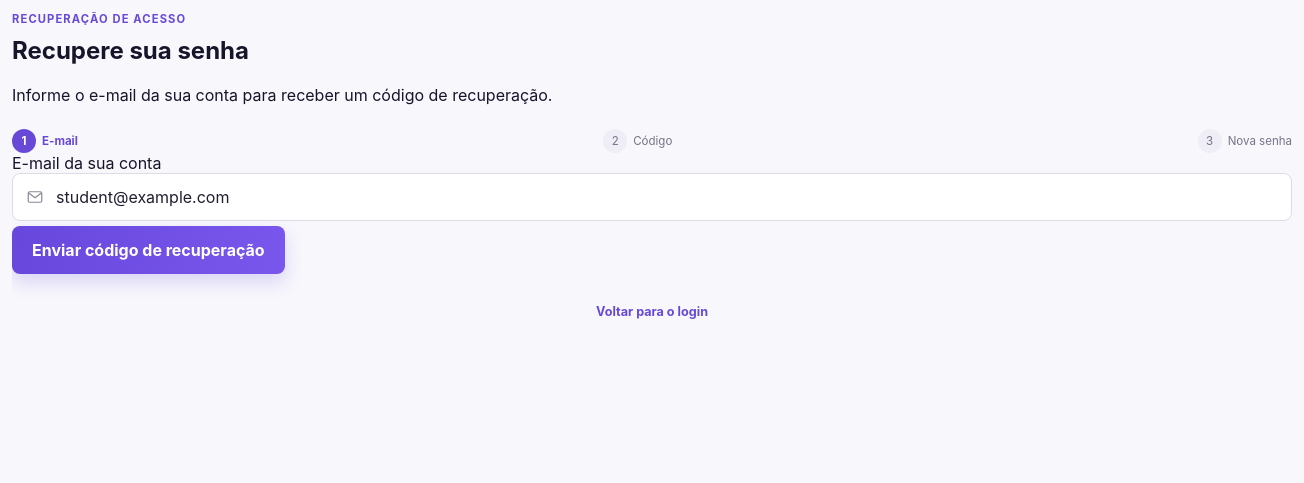
it: recuperação de senha › impede envio de senhas diferentes e exibe mensagem acessível
Submit the form, box [12,153,1292,274]
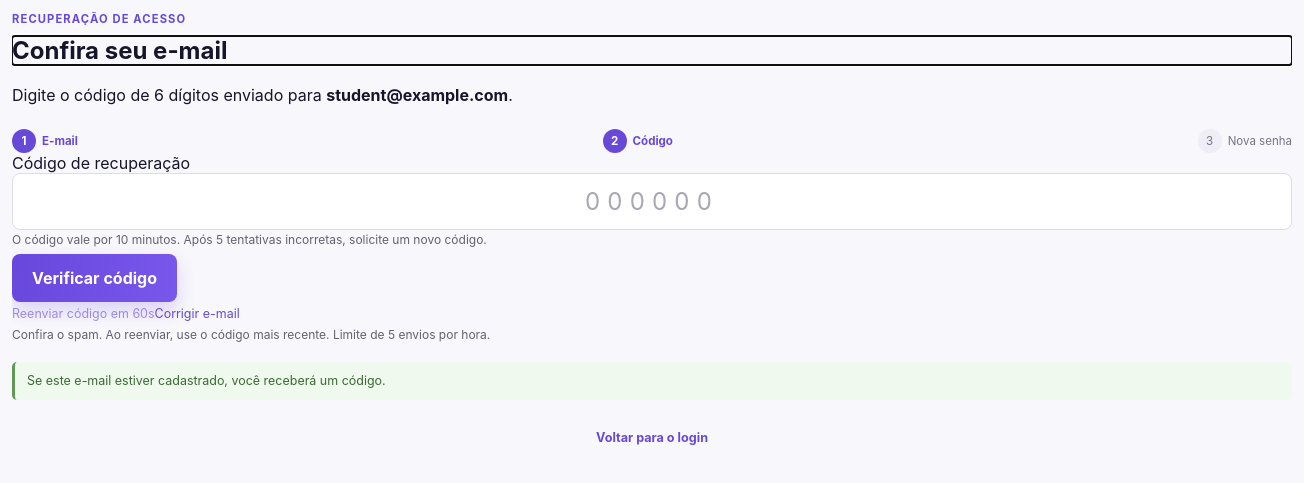
Type "001234" into the field labelled "Código de recuperação".
click(652, 201); type("001234")  # box [12,173,1292,230]
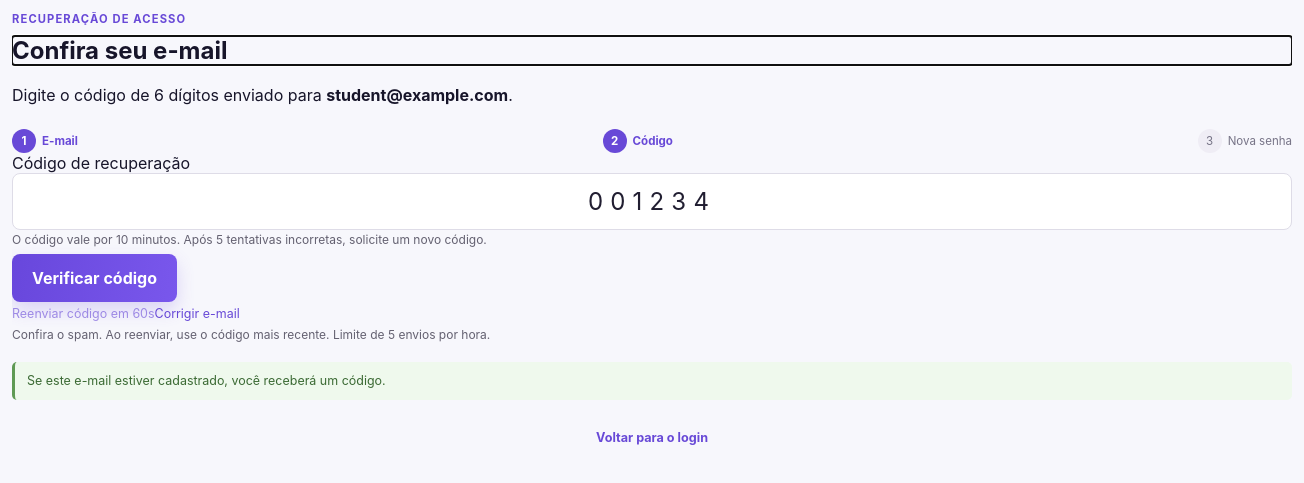
Submit the form, box [12,153,1292,344]
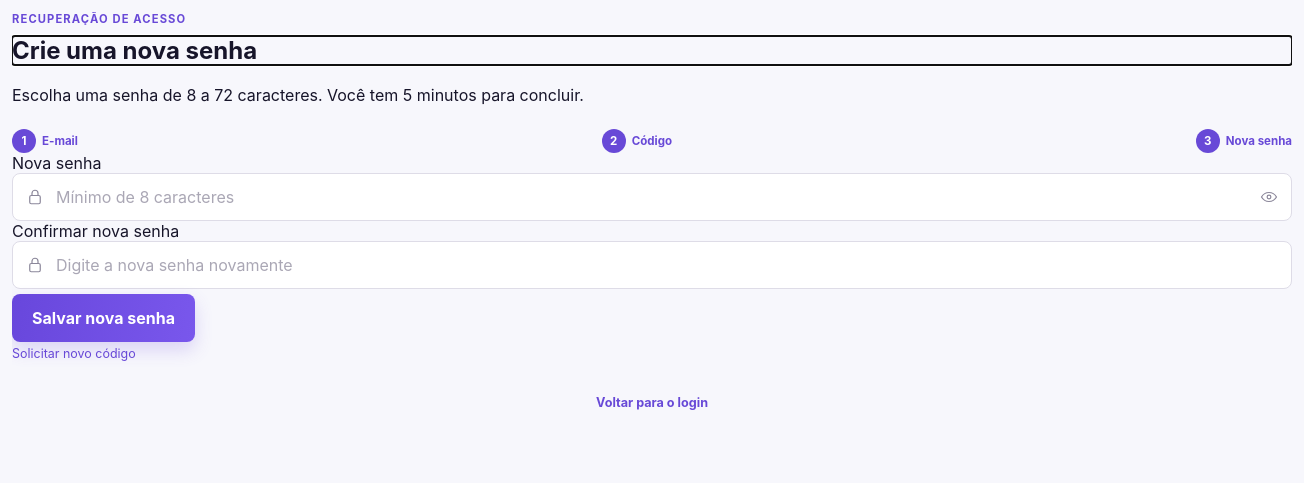
Type "senha-nova-123" into the password field labelled "Nova senha".
click(652, 197); type("senha-nova-123")  # box [12,173,1292,221]
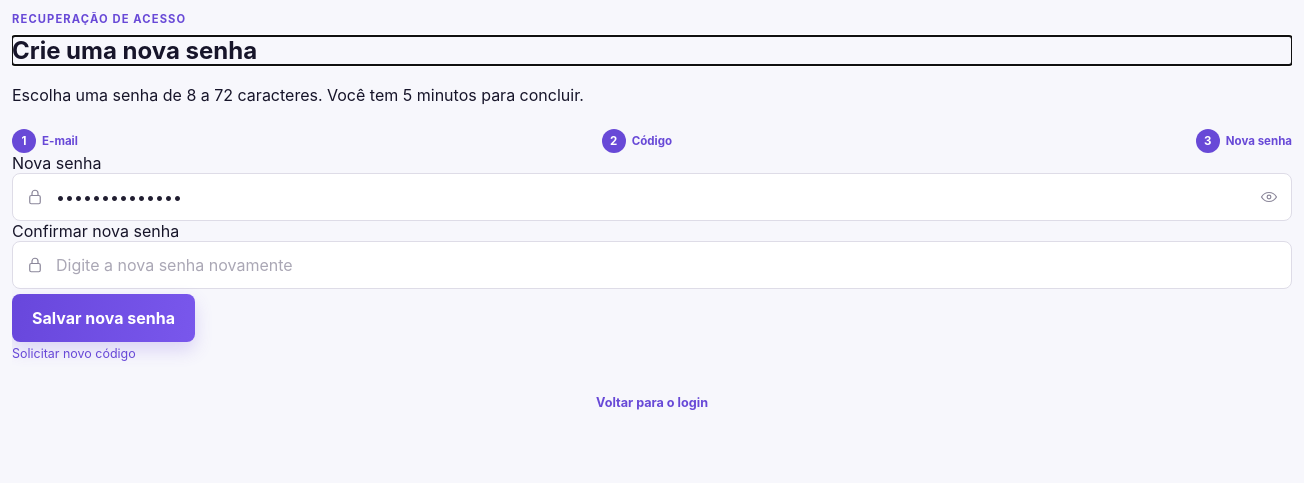
Type "senha-diferente-123" into the password field labelled "Confirmar nova senha".
click(652, 265); type("senha-diferente-123")  # box [12,241,1292,289]
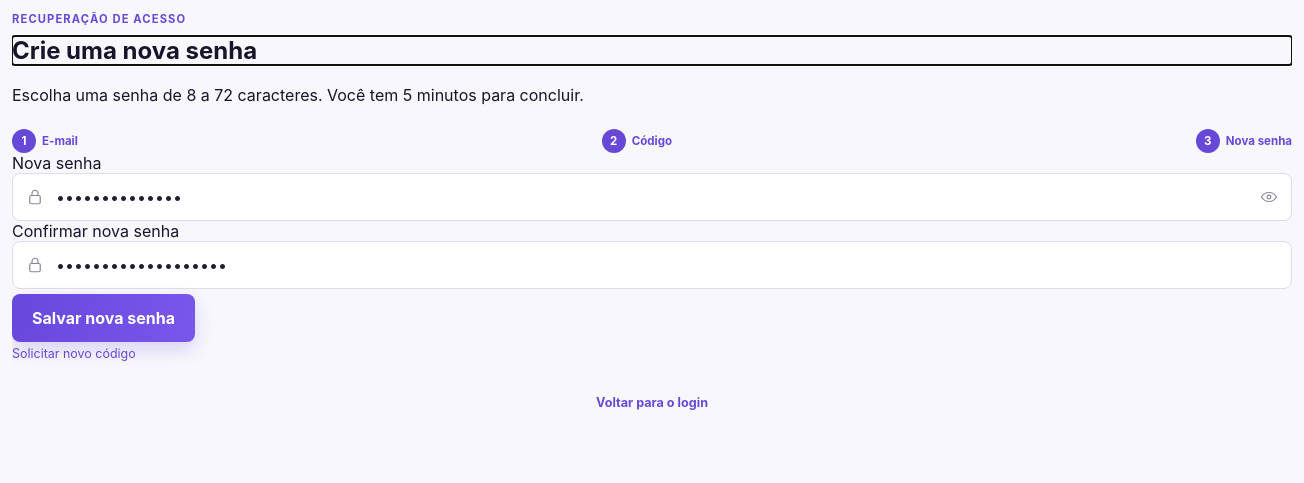
Submit the form, box [12,153,1292,365]
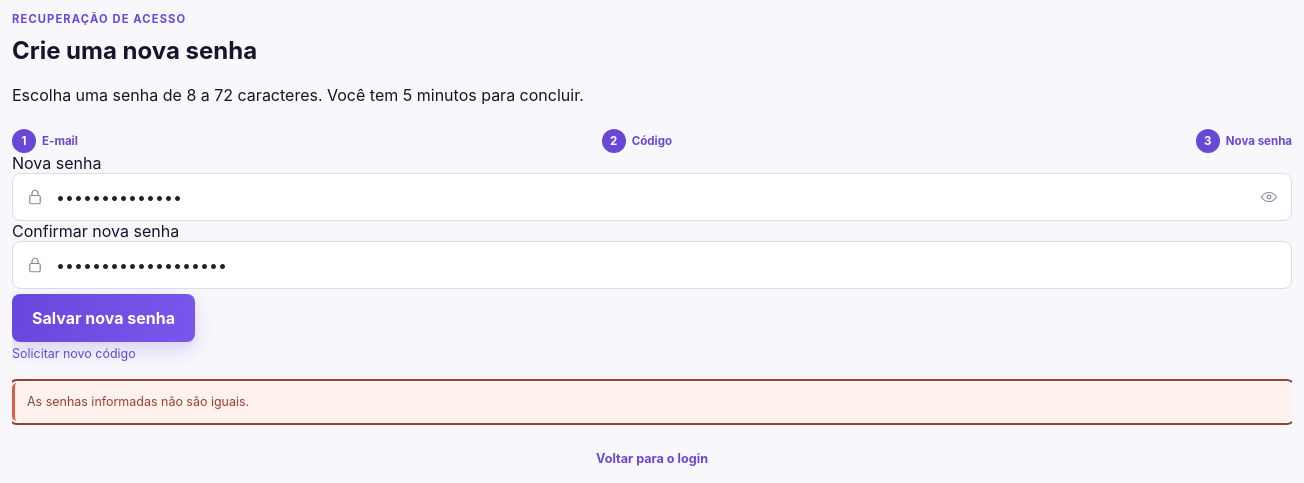
Check: the message "As senhas informadas não são iguais." is shown, box [12,383,1292,421]
